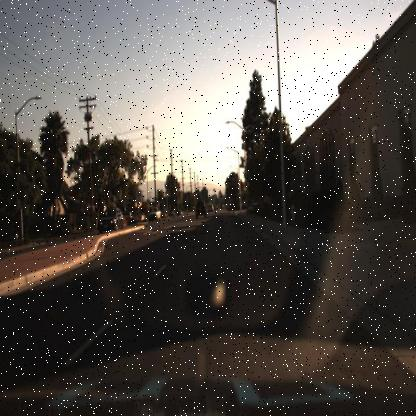car: (96, 200, 124, 236), (96, 204, 126, 237), (192, 194, 209, 223), (145, 203, 165, 224)
